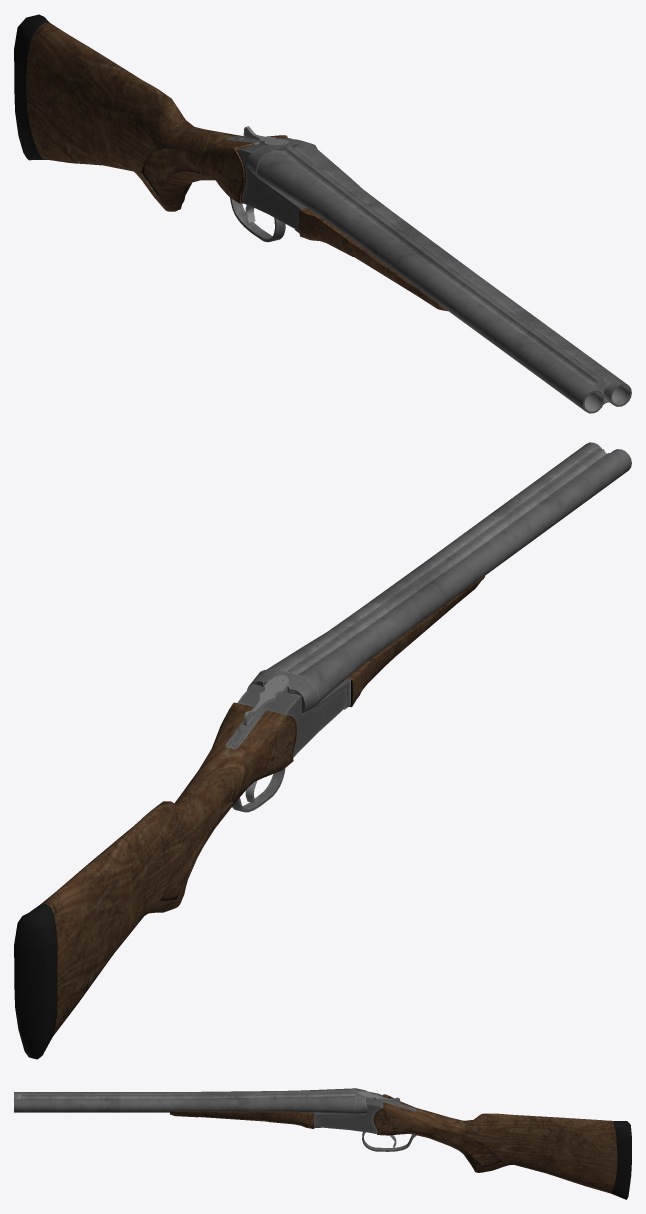
3 views of the same model, one above another, from view 1: azimuth 30°, elevation 25°; view 2: azimuth 150°, elevation 25°; view 3: azimuth 270°, elevation 25° (orthographic). The views are drawn at different scales.
Visible parts, largest first — view 1: Body_stock_low, Body_barrel_low, Body_forearm_low, Body_chambers_low; view 2: Body_stock_low, Body_barrel_low, Body_forearm_low, Body_chambers_low; view 3: Body_stock_low, Body_barrel_low, Body_forearm_low, Body_chambers_low, Body_realese_low.
Boxes of the visible parts, box(x1,y1,x2,y2) form: Body_stock_low: box(14, 14, 298, 242); Body_barrel_low: box(256, 143, 631, 413); Body_forearm_low: box(262, 181, 447, 311); Body_chambers_low: box(247, 139, 317, 178); Body_stock_low: box(14, 684, 347, 1059); Body_barrel_low: box(267, 442, 631, 704); Body_forearm_low: box(312, 575, 484, 710); Body_chambers_low: box(247, 669, 319, 713); Body_stock_low: box(317, 1091, 631, 1199); Body_barrel_low: box(14, 1088, 354, 1114); Body_forearm_low: box(170, 1111, 355, 1128); Body_chambers_low: box(355, 1088, 367, 1113); Body_realese_low: box(358, 1091, 400, 1104).
Bounding box in the file's own units: 0.0715 × 0.2176 × 1.14.
Materials: 6 (6 with a texture image).
